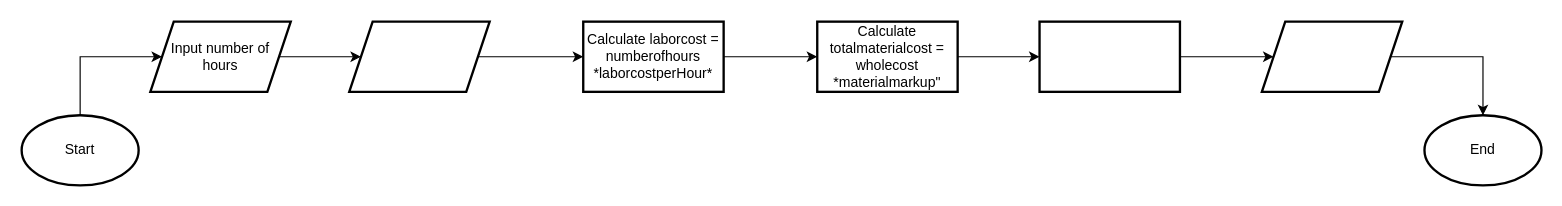
Image size: 1562x206. Some labels were removed from this diagram. The box of each missing label's shape, as (x1, y1, x2, y2) in pixels:
Calculate totalcost = laborcost + totalmaterialcost: (1038, 20, 1181, 92)
Input of wholesalecost: (347, 20, 490, 92)
Output totalcost: (1260, 20, 1403, 92)
